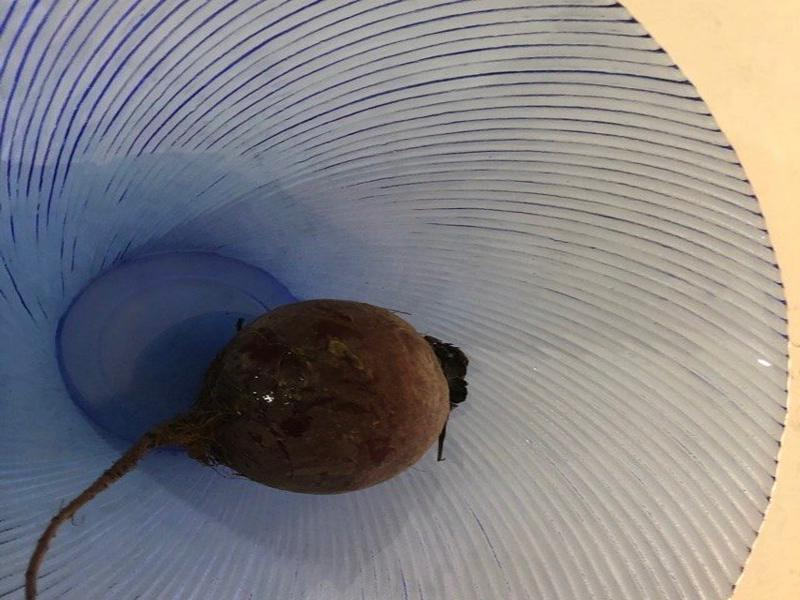Beet: (26, 299, 470, 600)
